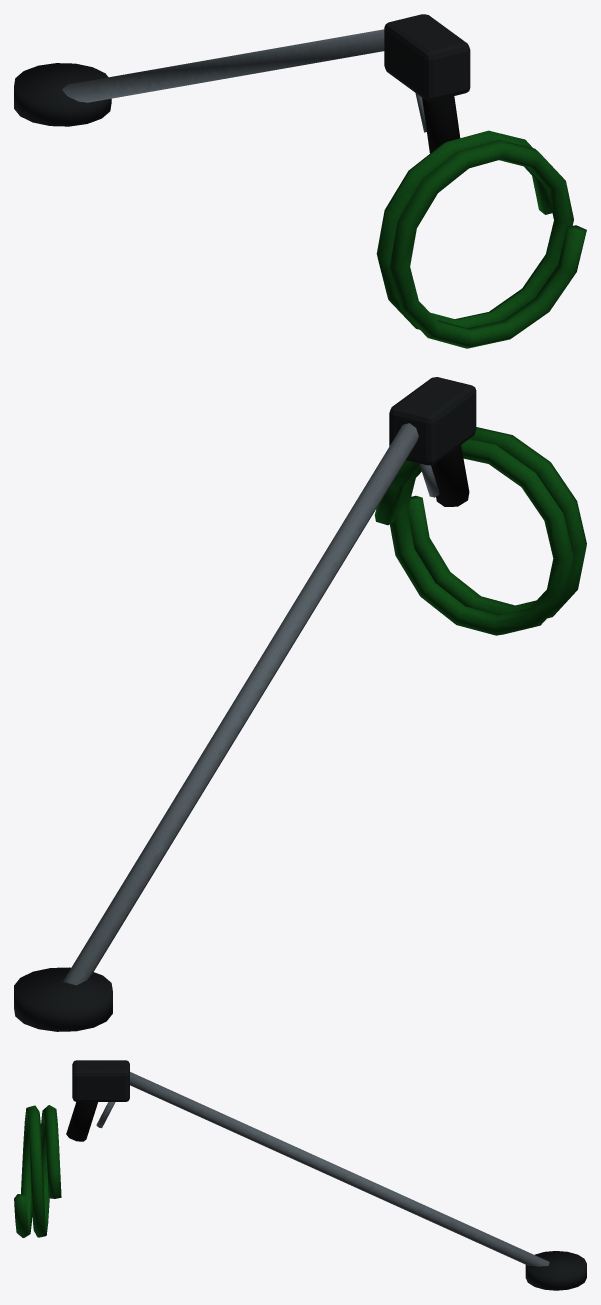
Rendered from GardenHoseWand.gltf.
3 views of the same model, one above another, from view 1: azimuth 30°, elevation 25°; view 2: azimuth 150°, elevation 25°; view 3: azimuth 270°, elevation 25° (orthographic). The views are drawn at different scales.
Parts seen in each view (by area): view 1: GardenHoseWand__Body; view 2: GardenHoseWand__Body; view 3: GardenHoseWand__Body.
Part boxes in pixels (x1=…): GardenHoseWand__Body: x1=14, y1=14, x2=586, y2=348; GardenHoseWand__Body: x1=14, y1=377, x2=586, y2=1031; GardenHoseWand__Body: x1=14, y1=1060, x2=586, y2=1290.
Bounding box in the file's own units: 0.1984 × 0.3453 × 0.8357.
1 material, 1 textured.
